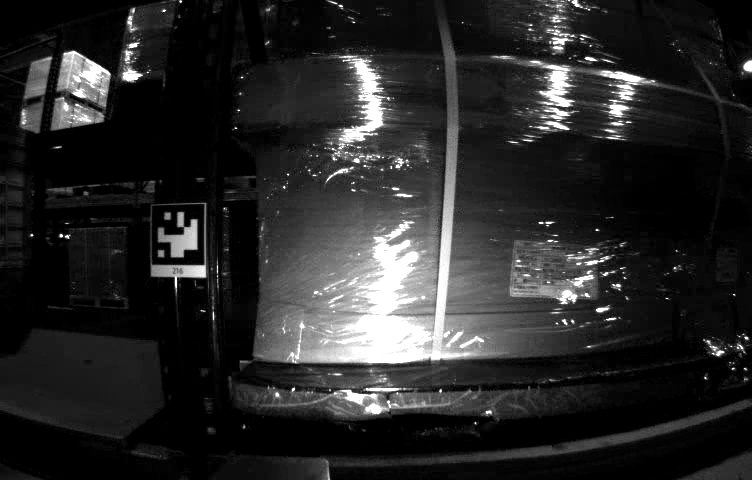True Barcode: (714, 246, 741, 283)
